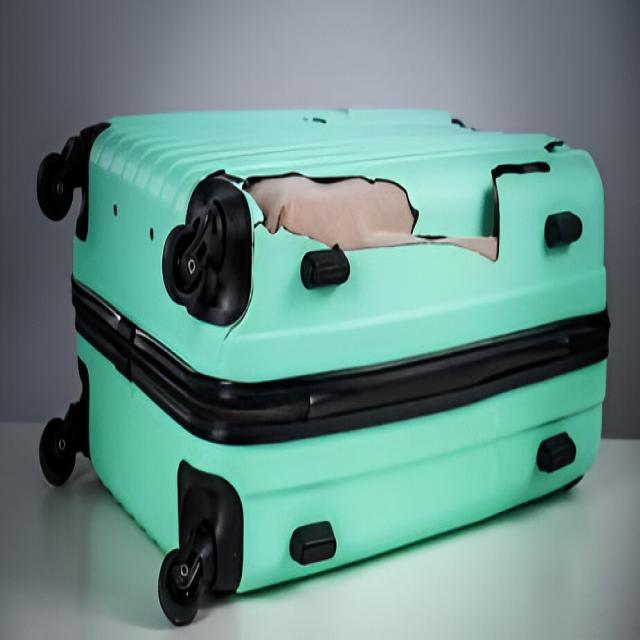Damage-bag: (218, 169, 451, 248), (442, 159, 553, 267), (224, 232, 257, 341), (545, 141, 564, 152), (451, 118, 468, 128), (312, 116, 329, 124)
